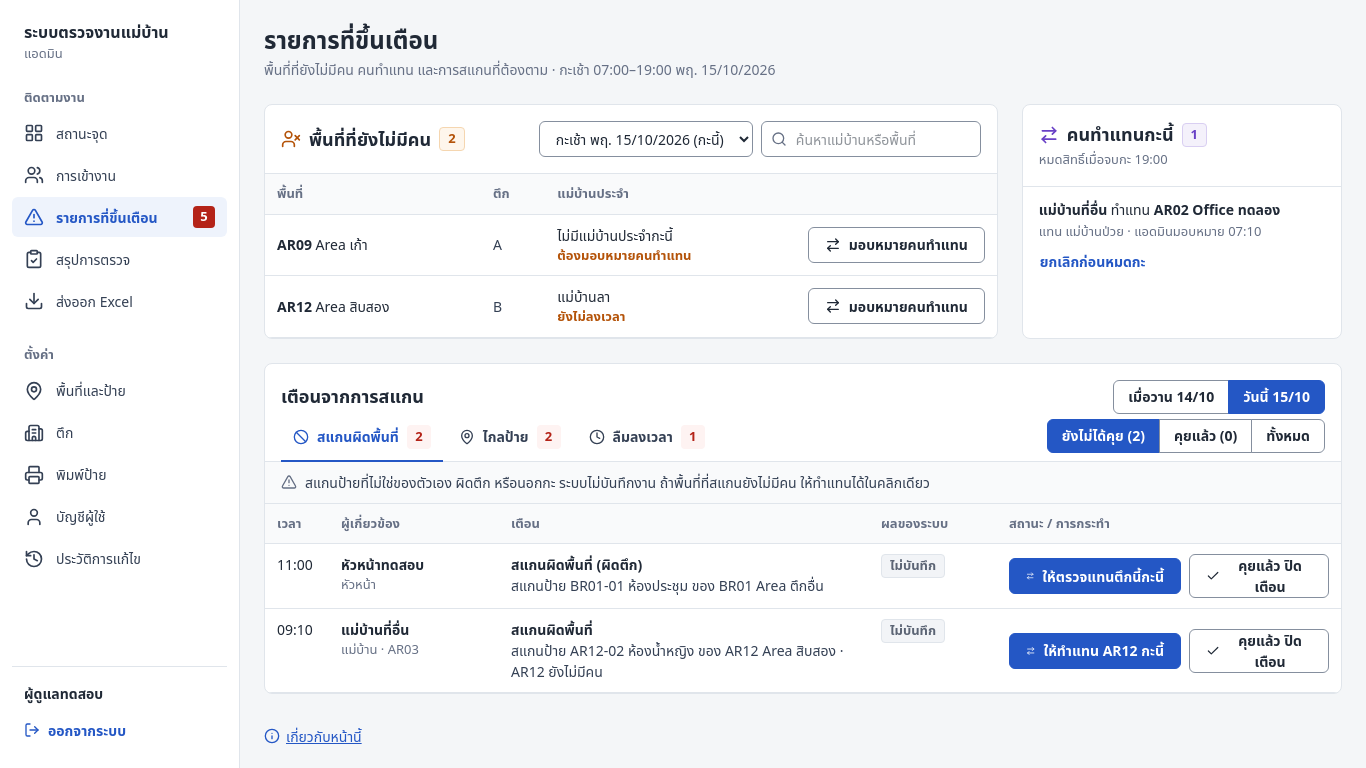
Test: covers on the alert page (D3, facility-0041, 0048) › says when nobody can cover, shows a refusal in the form, and ยกเลิก closes it
The image size is (1366, 768).
Click the button "มอบหมายคนทำแทน" in the row of "AR09" at (896, 245), box top-left (808, 227), bottom-right (985, 263)
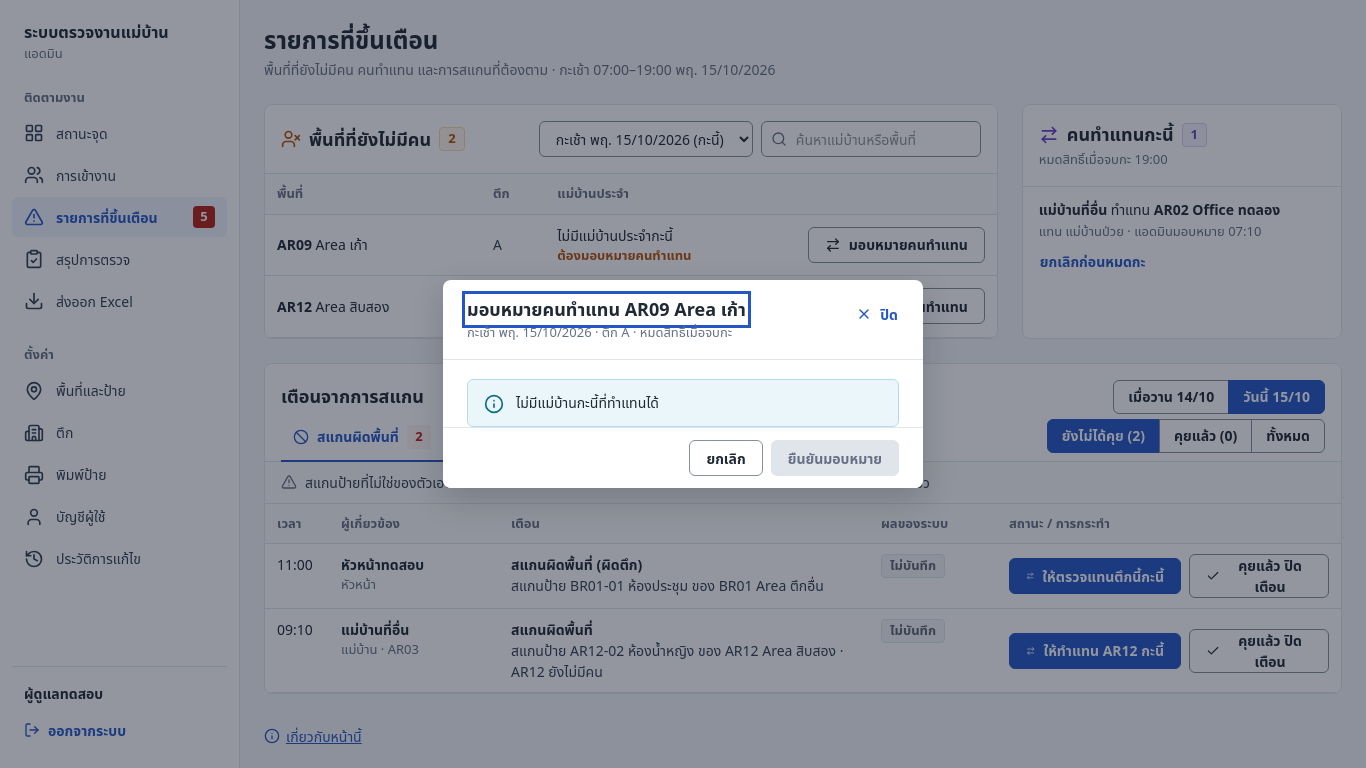
Now the text "ไม่มีแม่บ้านกะนี้ที่ทำแทนได้" is shown, box top-left (516, 392), bottom-right (659, 413)
Now the button "ยืนยันมอบหมาย" is disabled, box top-left (771, 440), bottom-right (899, 476)
Click the button "ยกเลิก" at (726, 458), box top-left (689, 440), bottom-right (763, 476)
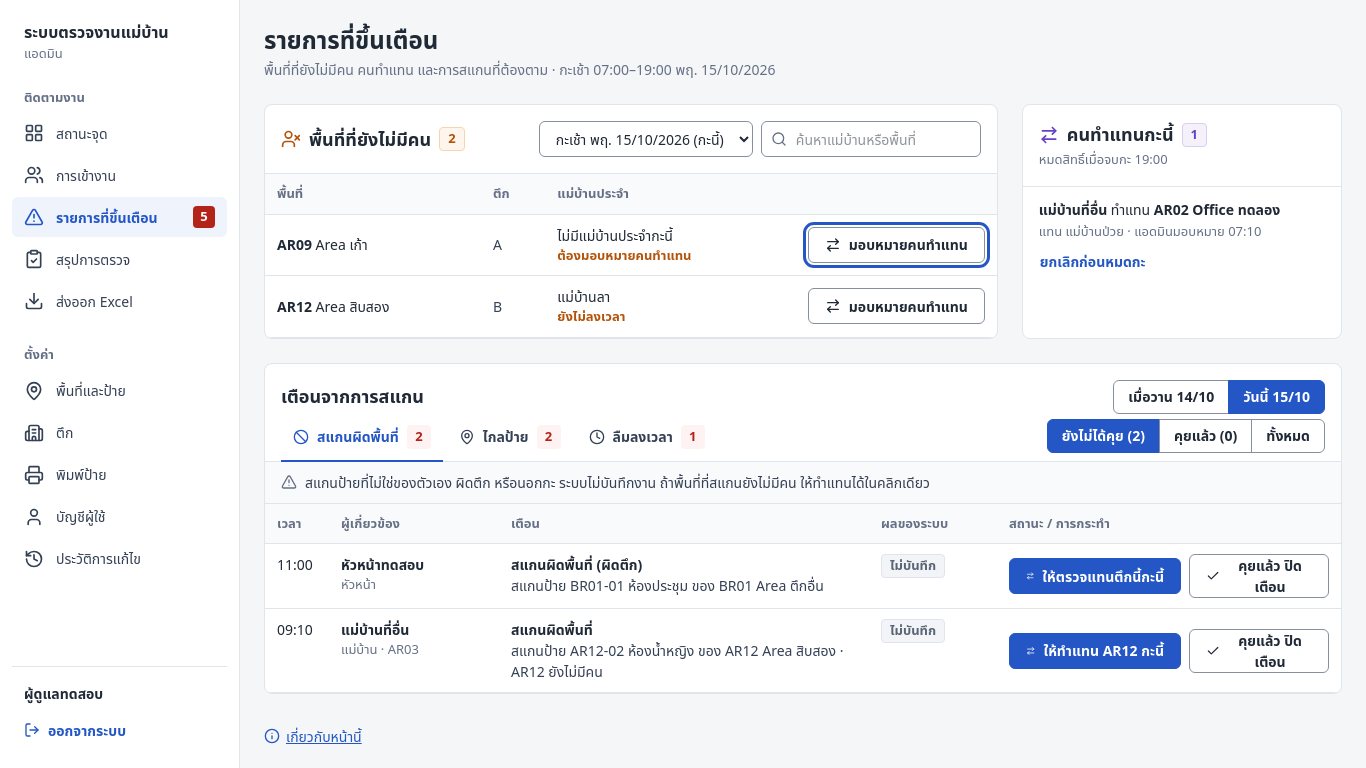
Now the heading "มอบหมายคนทำแทน AR09" is gone
Click the button "มอบหมายคนทำแทน" in the row of "แม่บ้านลา" at (896, 306), box top-left (808, 288), bottom-right (985, 324)
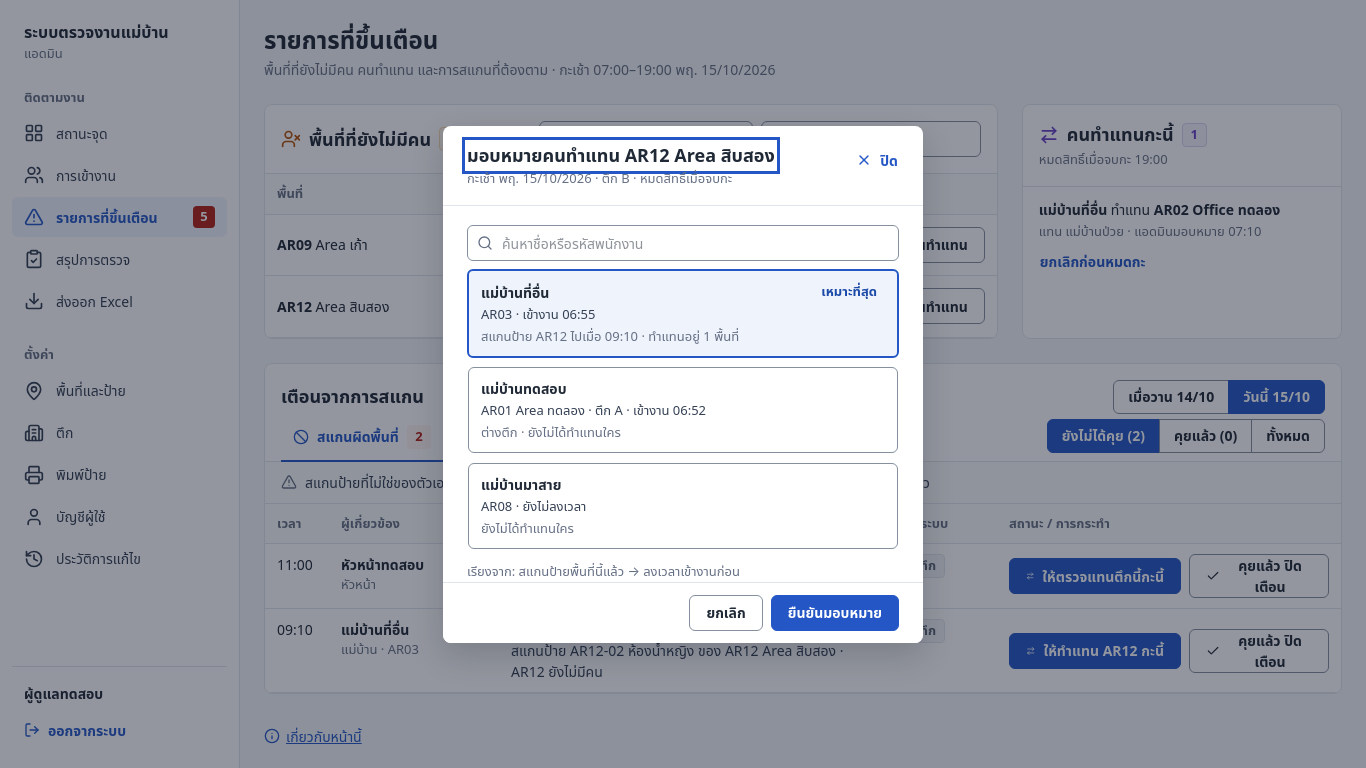
Now the element named "แม่บ้านที่ทำแทน" is shown, box top-left (467, 269), bottom-right (899, 550)
Click the button "ยืนยันมอบหมาย" at (835, 612), box top-left (771, 594), bottom-right (899, 630)
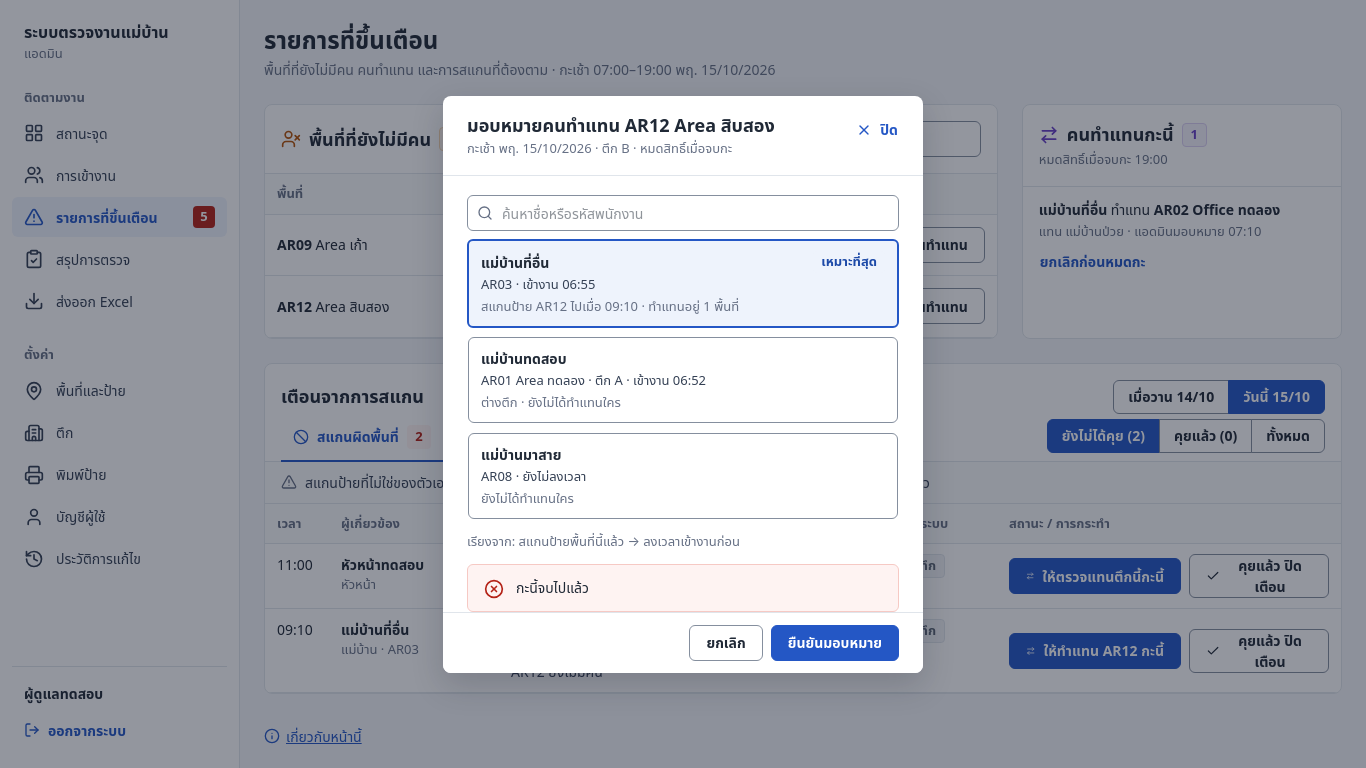
Now the message reads "กะนี้จบไปแล้ว", box top-left (516, 578), bottom-right (589, 596)
